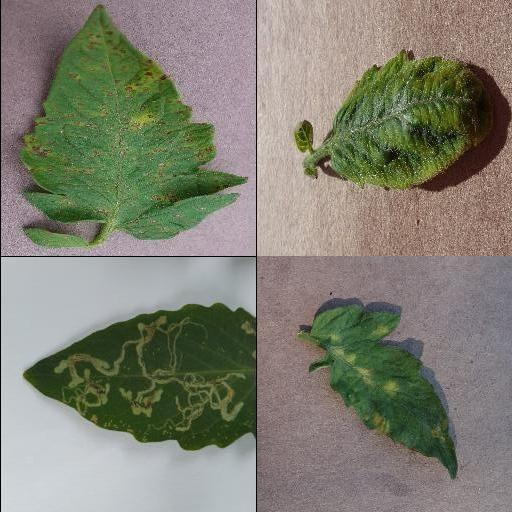Leaf Miner: (21, 300, 253, 452)
Leaf Mold: (312, 303, 458, 480)
Septoria: (19, 3, 247, 239)
Yellow Leaf Curl Virus: (330, 49, 488, 191)
